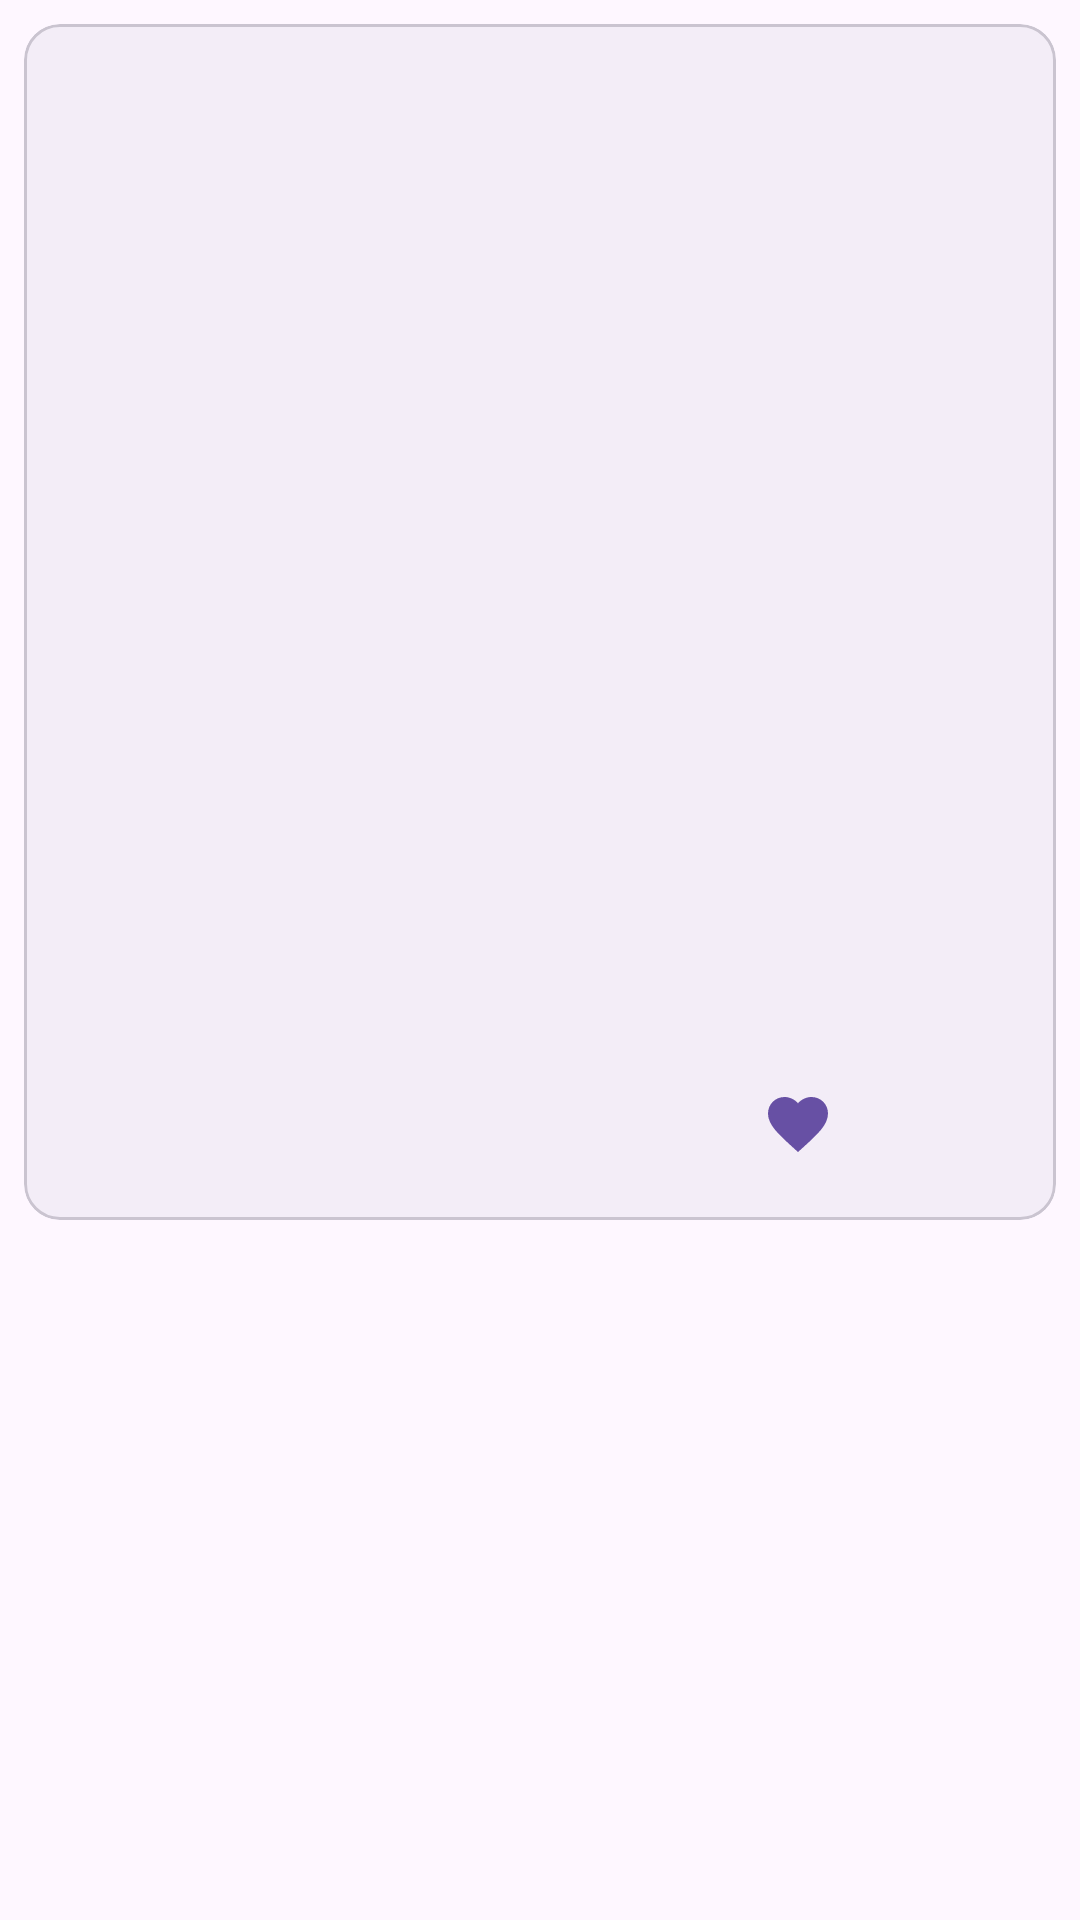

Icons on this 1080px x 1920px Android screen, each with its box as (x1, y1, x2, y2):
Favorite: (768, 1097, 828, 1152)
